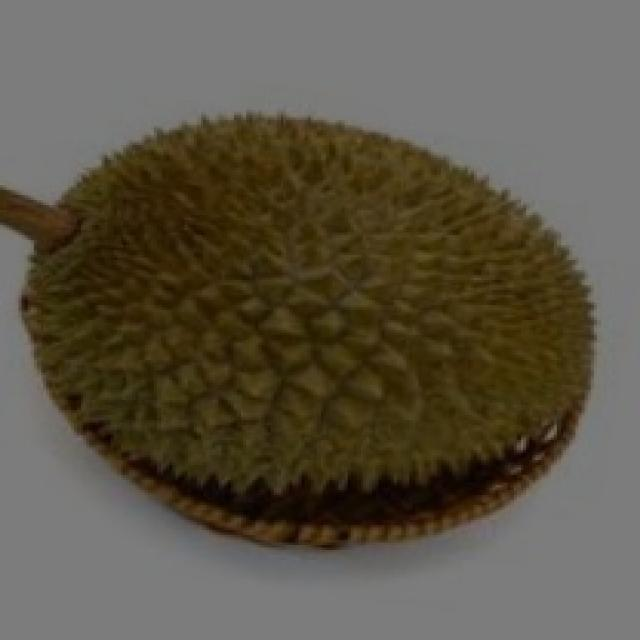fruit: (277, 160, 637, 588), (0, 145, 357, 565)
